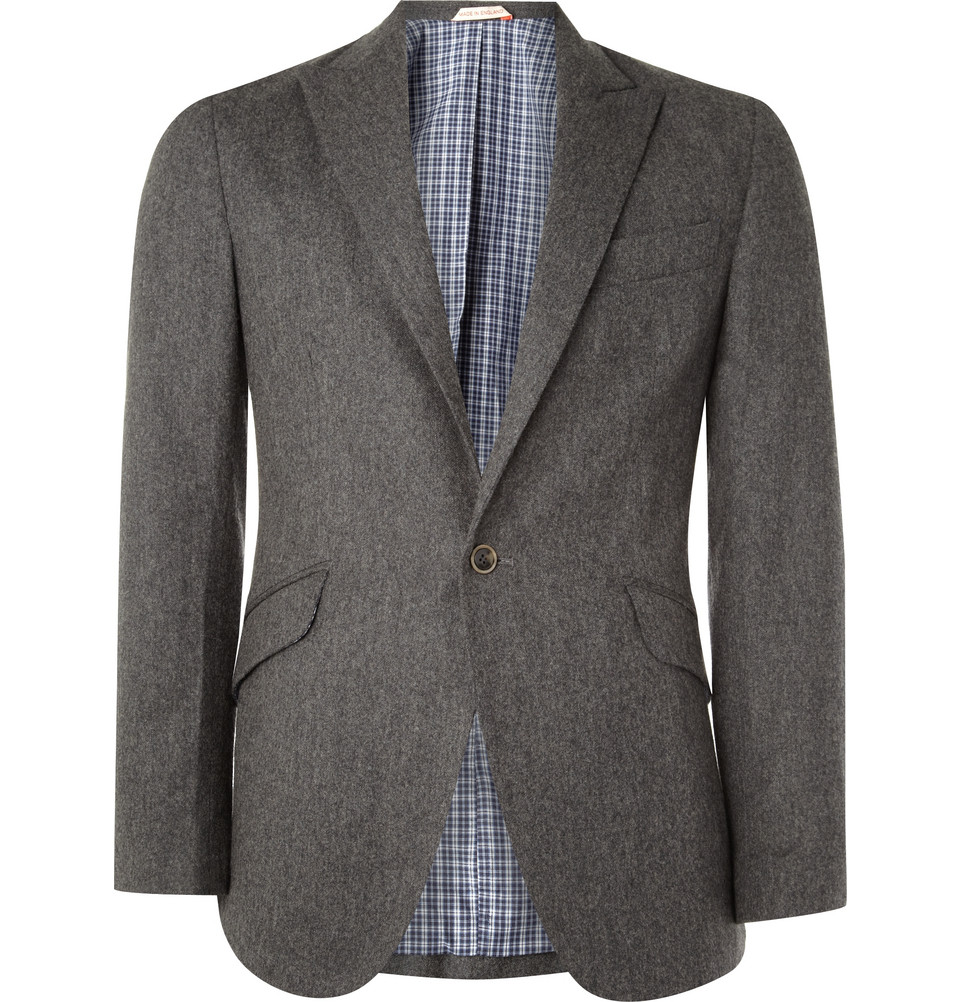F_M_suit jacket: (107, 8, 850, 976)
